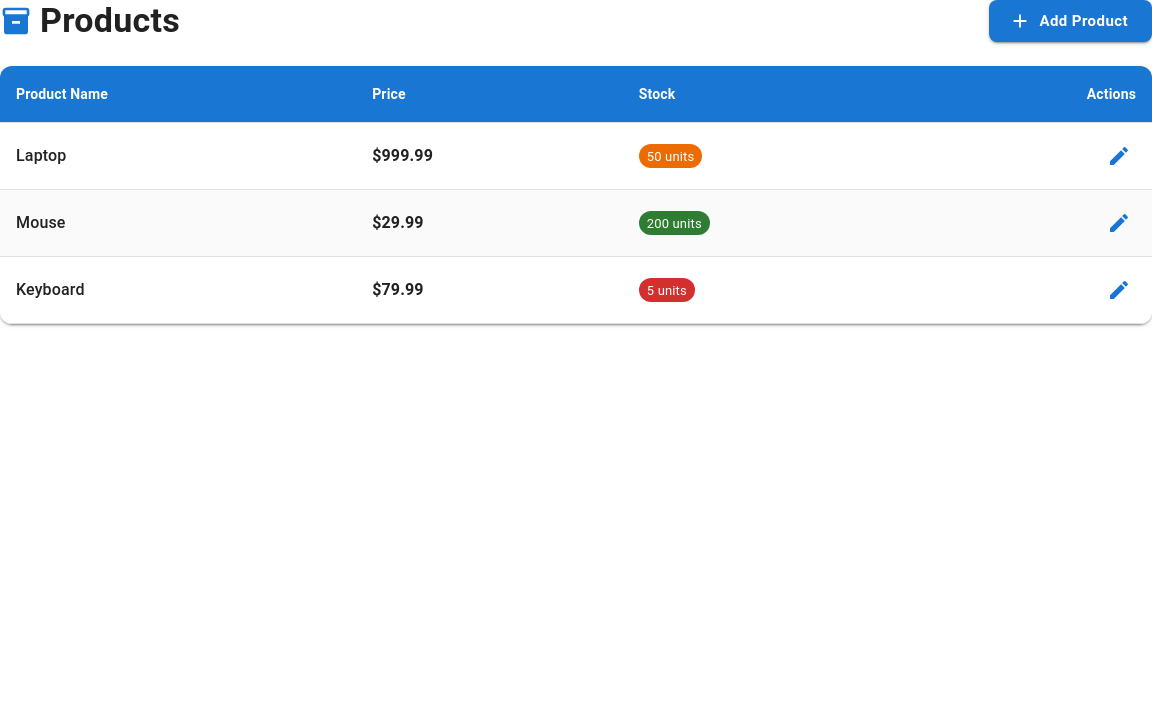
Test case: ProductList Component › opens edit product dialog when Edit button is clicked
The image size is (1152, 720).
Expected: the text "Laptop" is shown, [16, 146, 66, 165]
Click the button without text in the row of "Laptop".
click(1119, 156)  # box [1102, 139, 1136, 173]
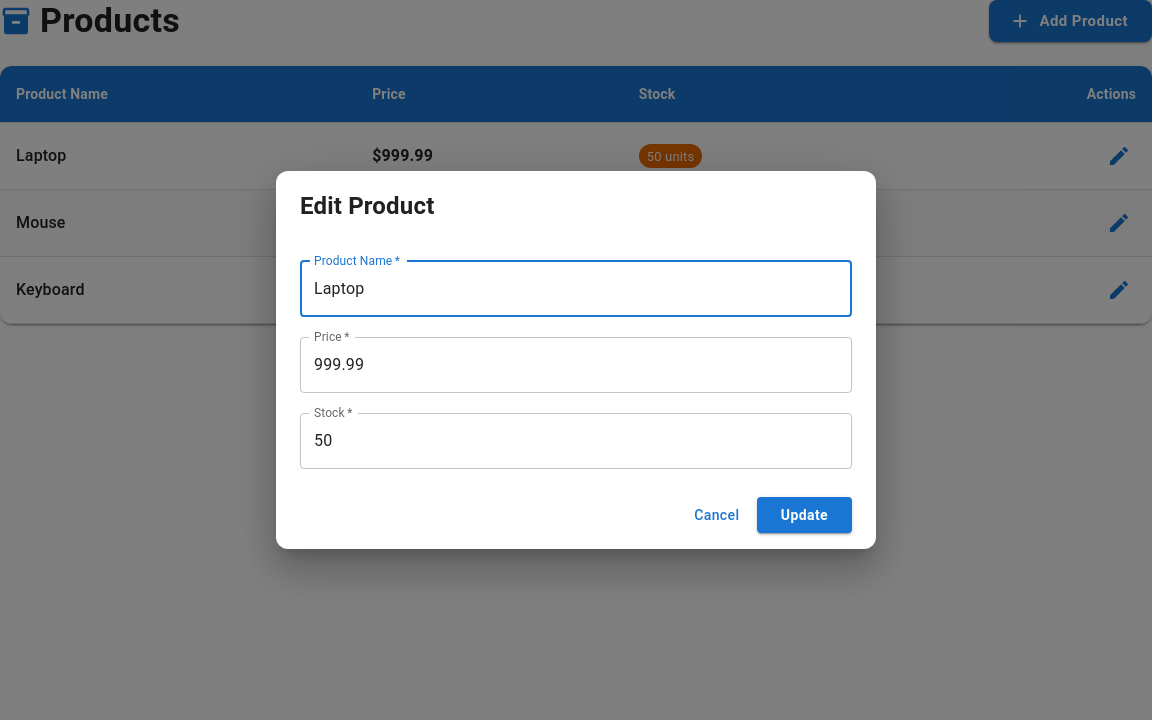
Expected: the heading "Edit Product" is shown, [300, 192, 434, 220]
